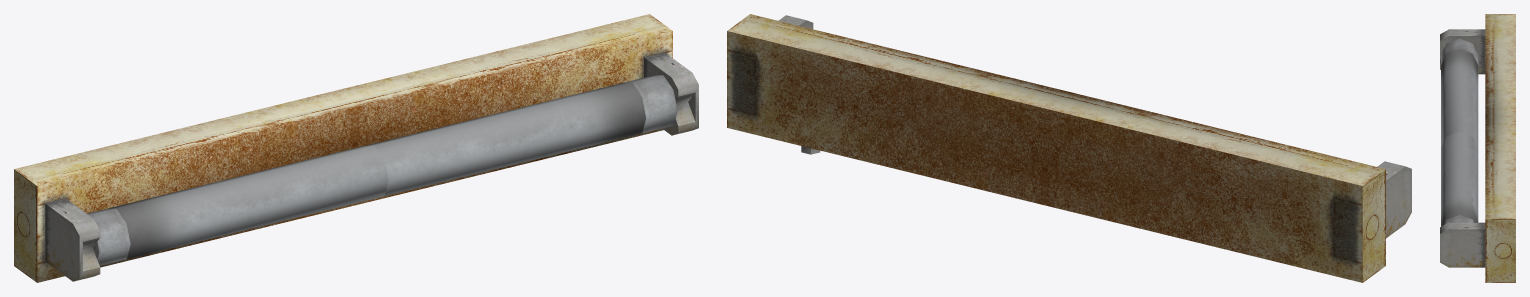
File: fluorescent_light_2.fbx
3 renders of one model, left to right at view 1: azimuth 30°, elevation 25°; view 2: azimuth 150°, elevation 25°; view 3: azimuth 270°, elevation 25°, orthographic. The views are drawn at different scales.
Parts seen in each view (by area): view 1: fluorescent_light_2; view 2: fluorescent_light_2; view 3: fluorescent_light_2.
Boxes of the visible parts, x1,y1,x2,y2 form: fluorescent_light_2: [14, 14, 698, 282]; fluorescent_light_2: [727, 14, 1411, 282]; fluorescent_light_2: [1440, 14, 1515, 282].
Bounding box in the file's own units: 17.26 × 2.74 × 2.7.
1 material, 1 textured.
